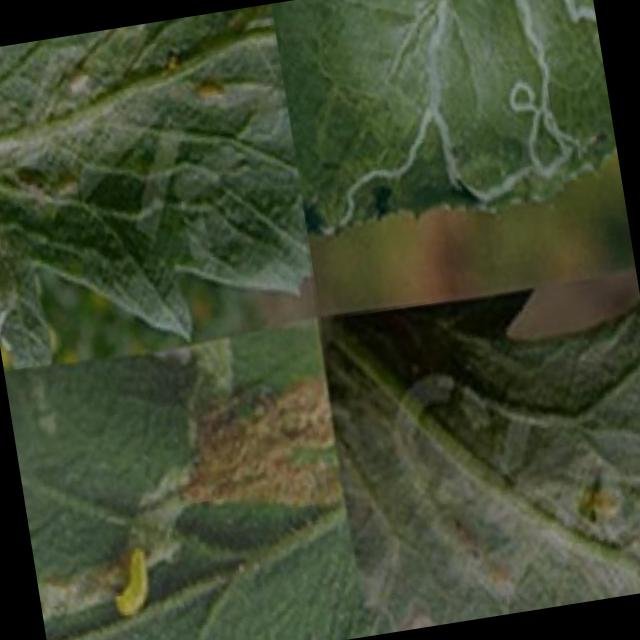whorl-maggot: (100, 540, 172, 638), (190, 71, 230, 116)
